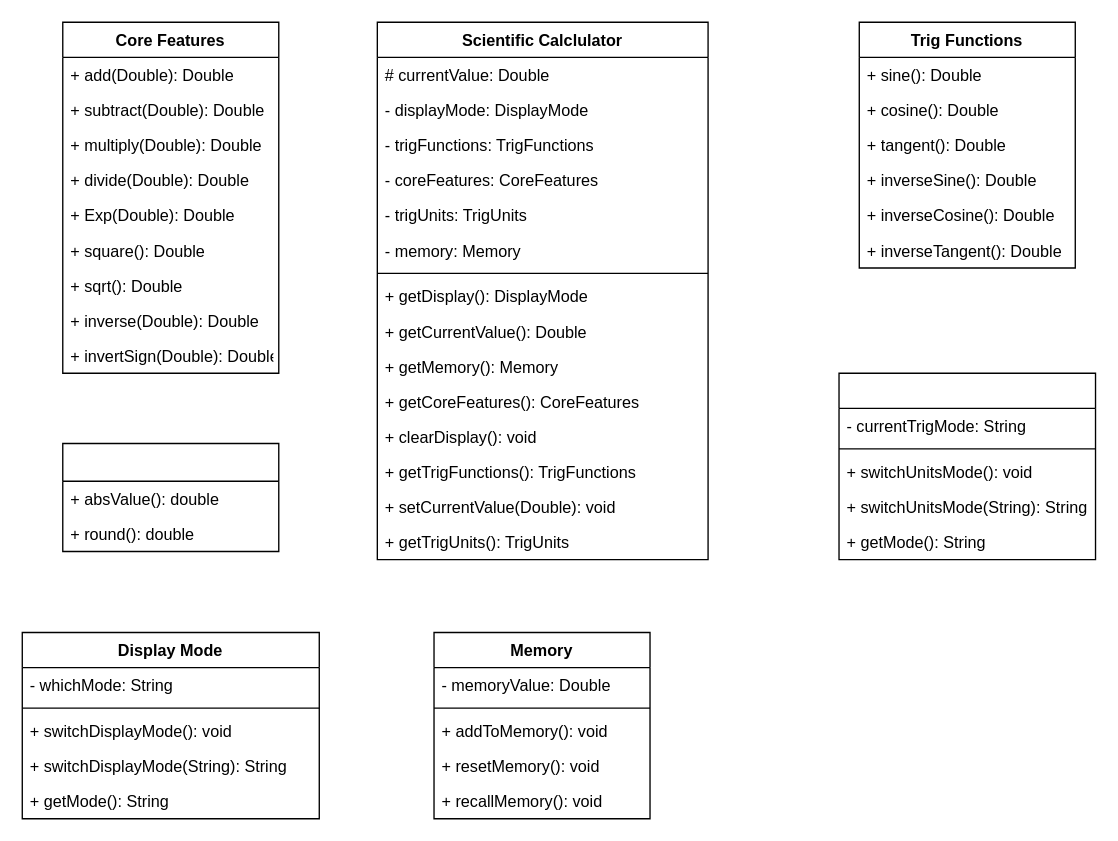
Some shapes in this 1118 by 841 pixel diagram are drawn without their labels. The box of each missing label's shape, as (x1, y1, x2, y2) in pixels:
Extra Features: (61, 442, 279, 551)
Trig Units: (838, 372, 1096, 560)
